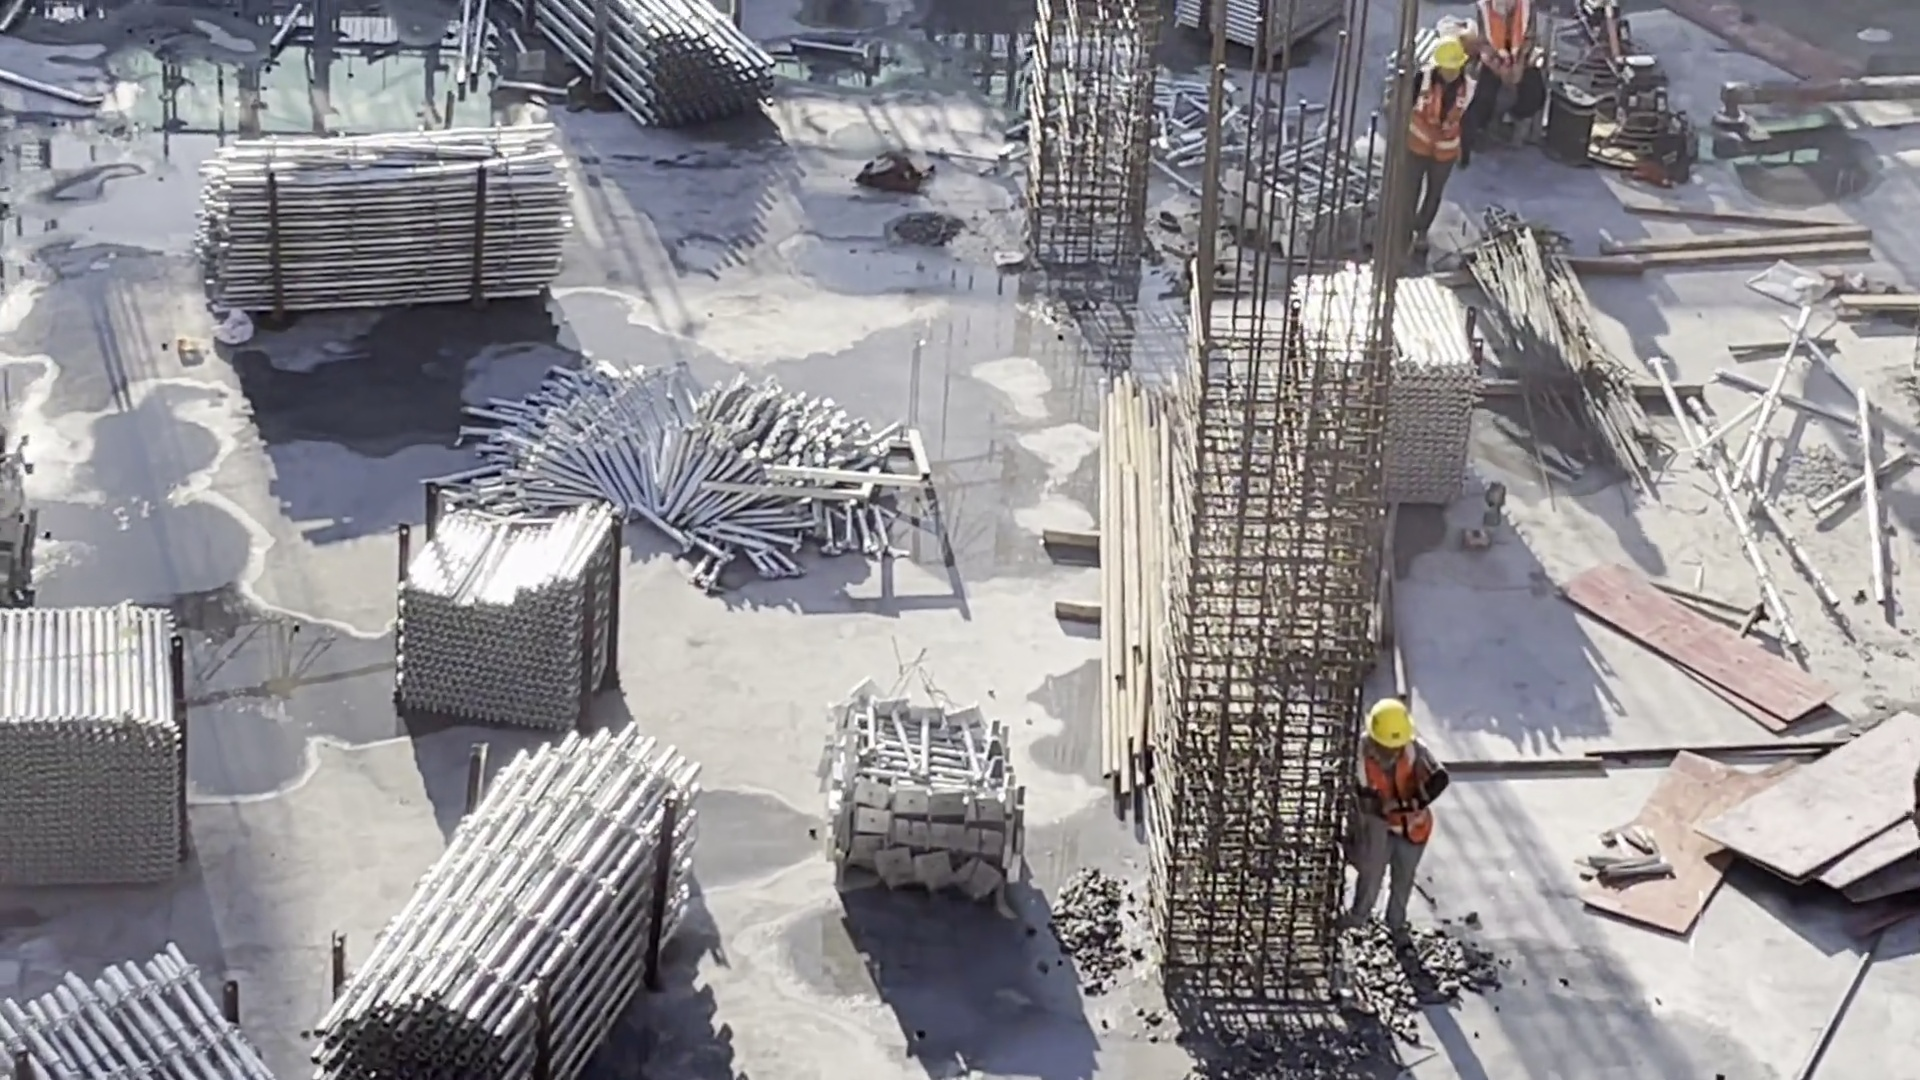board: (1750, 705, 1920, 902)
helmet: (1369, 701, 1414, 746), (1438, 37, 1464, 78)
person: (1351, 685, 1445, 946), (1402, 37, 1473, 256), (1474, 1, 1551, 145)
scaffold: (349, 743, 700, 1080), (458, 340, 904, 551), (173, 124, 581, 323), (380, 499, 639, 738), (1, 589, 205, 894), (1153, 70, 1413, 285), (777, 674, 1015, 902), (1285, 275, 1481, 512), (7, 942, 285, 1080), (530, 1, 773, 131), (1161, 1, 1368, 57)
vest: (1358, 746, 1434, 845), (1404, 73, 1474, 169), (1481, 1, 1548, 81)
